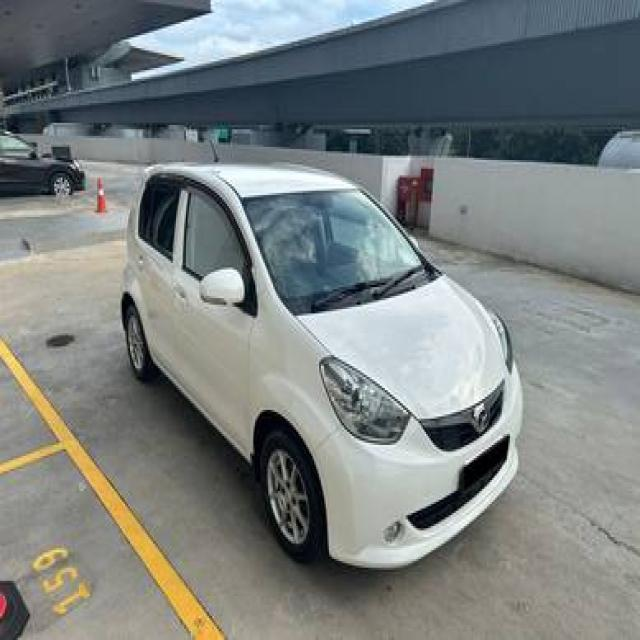PeroduaMyvi: (118, 158, 525, 572)
